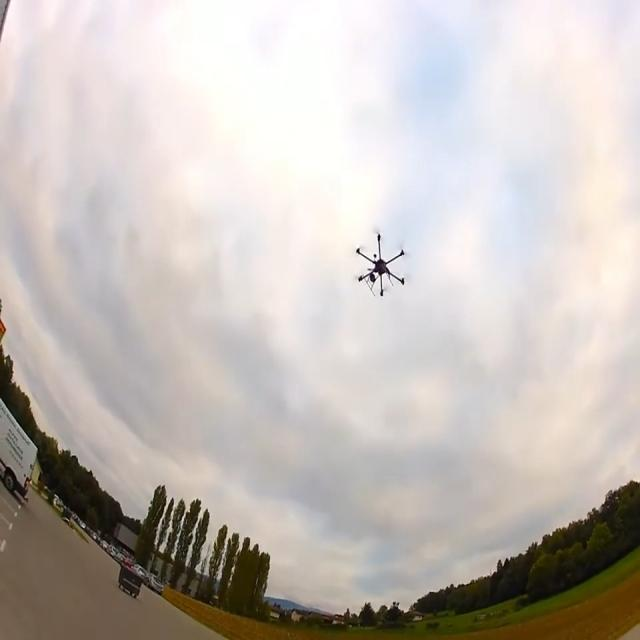drone: (356, 232, 406, 297)
